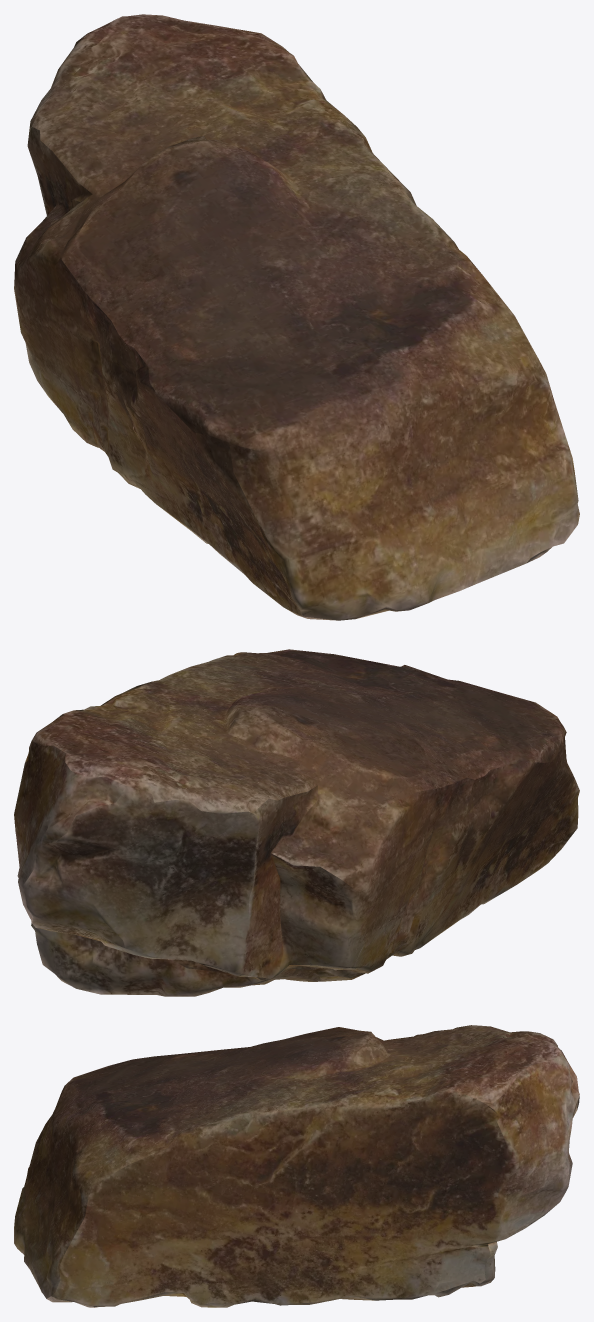
File: rock_a.glb
The picture shows the model from 3 angles, top to bottom: view 1: azimuth 30°, elevation 25°; view 2: azimuth 150°, elevation 25°; view 3: azimuth 270°, elevation 25°; orthographic projection. The views are drawn at different scales.
Visible parts, largest first — view 1: rock_07; view 2: rock_07; view 3: rock_07.
Part boxes in pixels (box(x1,y1,x2,y2)): rock_07: box(14, 14, 579, 620); rock_07: box(14, 649, 579, 996); rock_07: box(14, 1025, 579, 1307).
Bounding box in the file's own units: 0.1681 × 0.1437 × 0.3199.
Materials: 1 (1 with a texture image).
